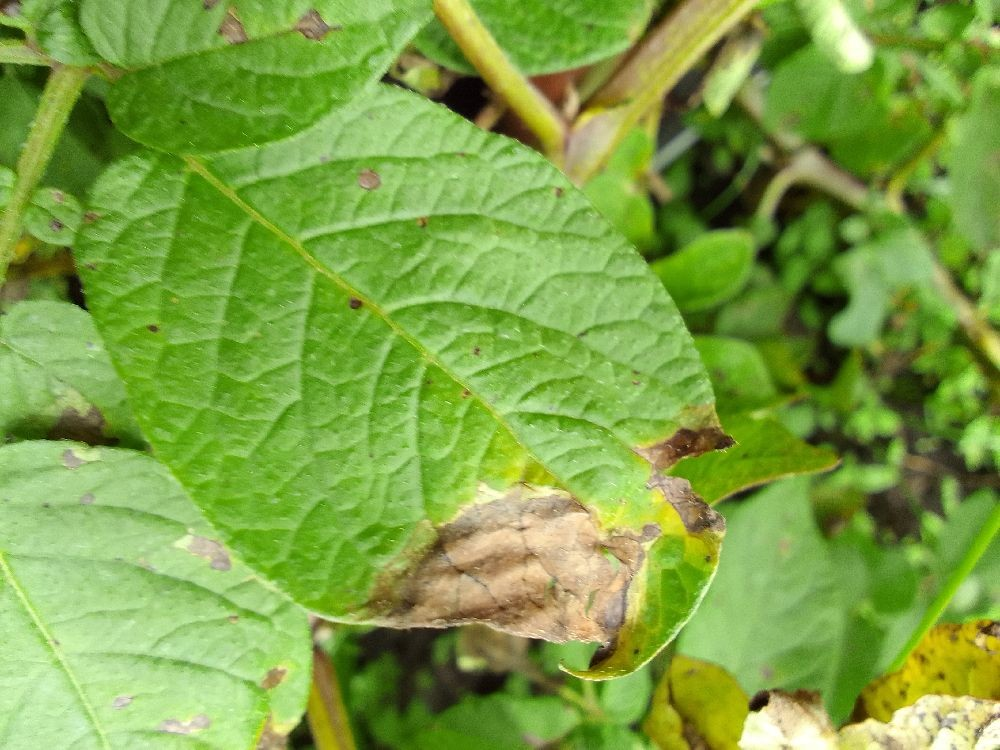late_blight: (350, 403, 749, 724), (389, 0, 766, 220), (776, 318, 1000, 570), (719, 591, 1000, 750)
